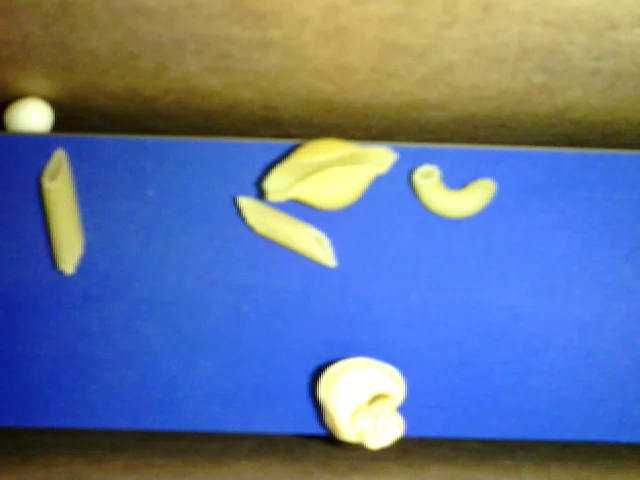elbow: (411, 163, 498, 219)
penne: (236, 193, 338, 269), (41, 148, 86, 275)
shell: (261, 136, 395, 212)
tortellini: (315, 356, 407, 451)
